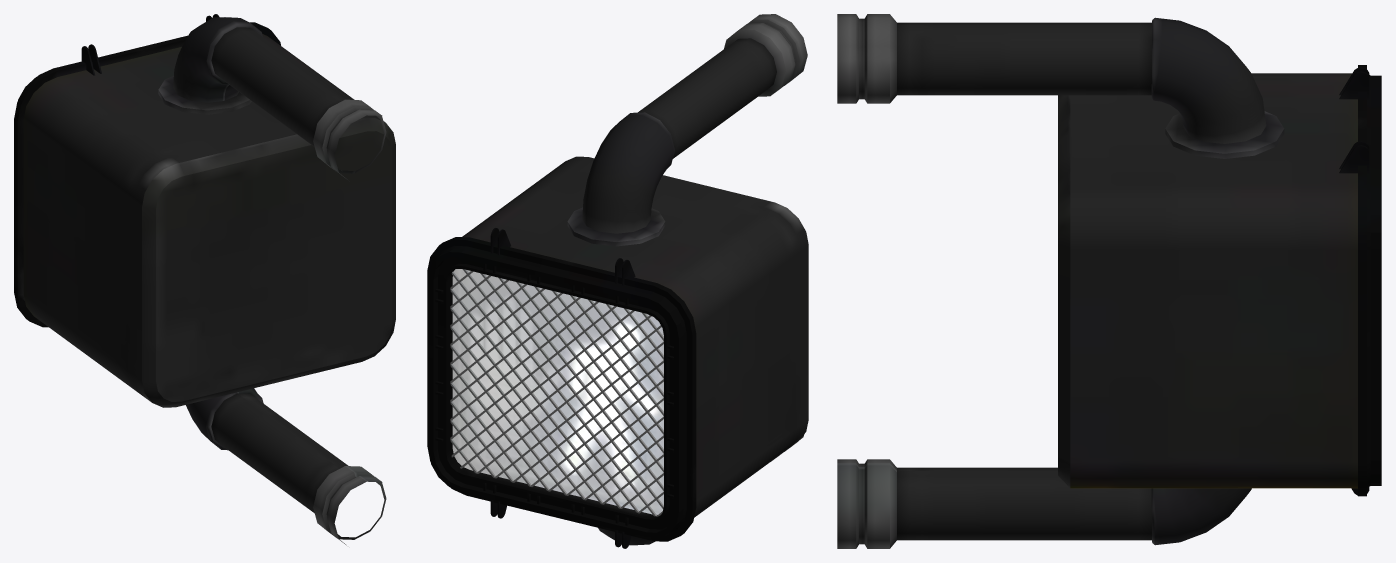
Rendered from crosswalk_signal.glb.
3 views of the same model, side by side, from view 1: azimuth 30°, elevation 25°; view 2: azimuth 150°, elevation 25°; view 3: azimuth 270°, elevation 25° (orthographic). The views are drawn at different scales.
Parts seen in each view (by area): view 1: body; view 2: body; view 3: body.
Boxes of the visible parts, <box> form: body: <box>14,14,395,545</box>; body: <box>427,14,808,548</box>; body: <box>837,14,1381,548</box>.
Bounding box in the file's own units: 0.3906 × 0.609 × 0.5702.
2 materials, 2 textured.
